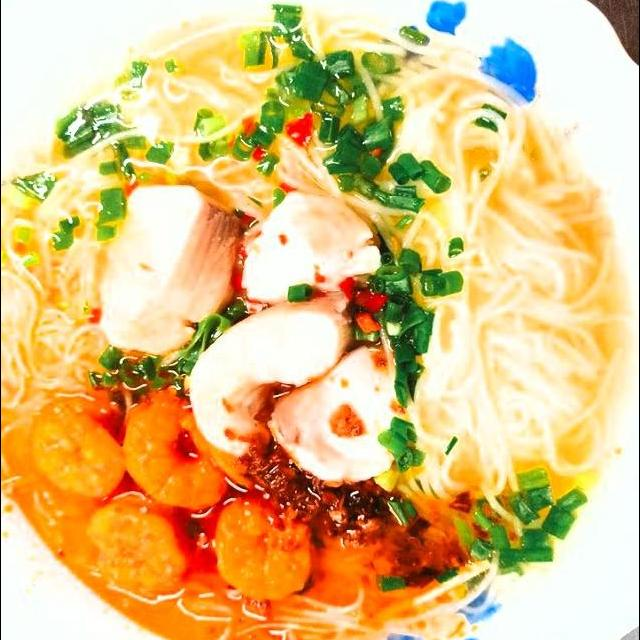bun: (384, 0, 639, 640), (29, 16, 612, 190), (2, 59, 129, 428)
bun ca: (24, 0, 631, 640)
ca: (176, 290, 366, 467), (83, 176, 252, 364), (259, 339, 424, 500), (223, 183, 390, 317)
tom: (116, 385, 240, 510), (203, 492, 319, 605), (24, 393, 139, 506), (84, 490, 196, 601)
